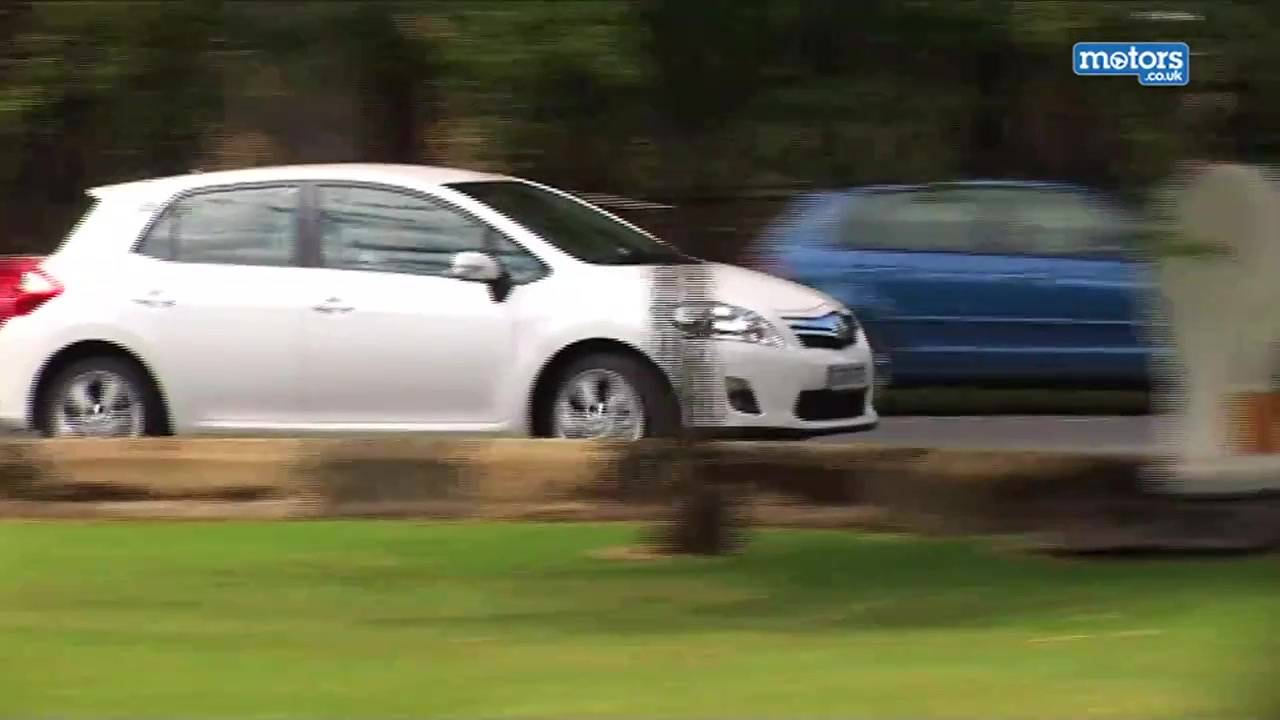car: (4, 158, 882, 441), (749, 185, 1248, 403)
